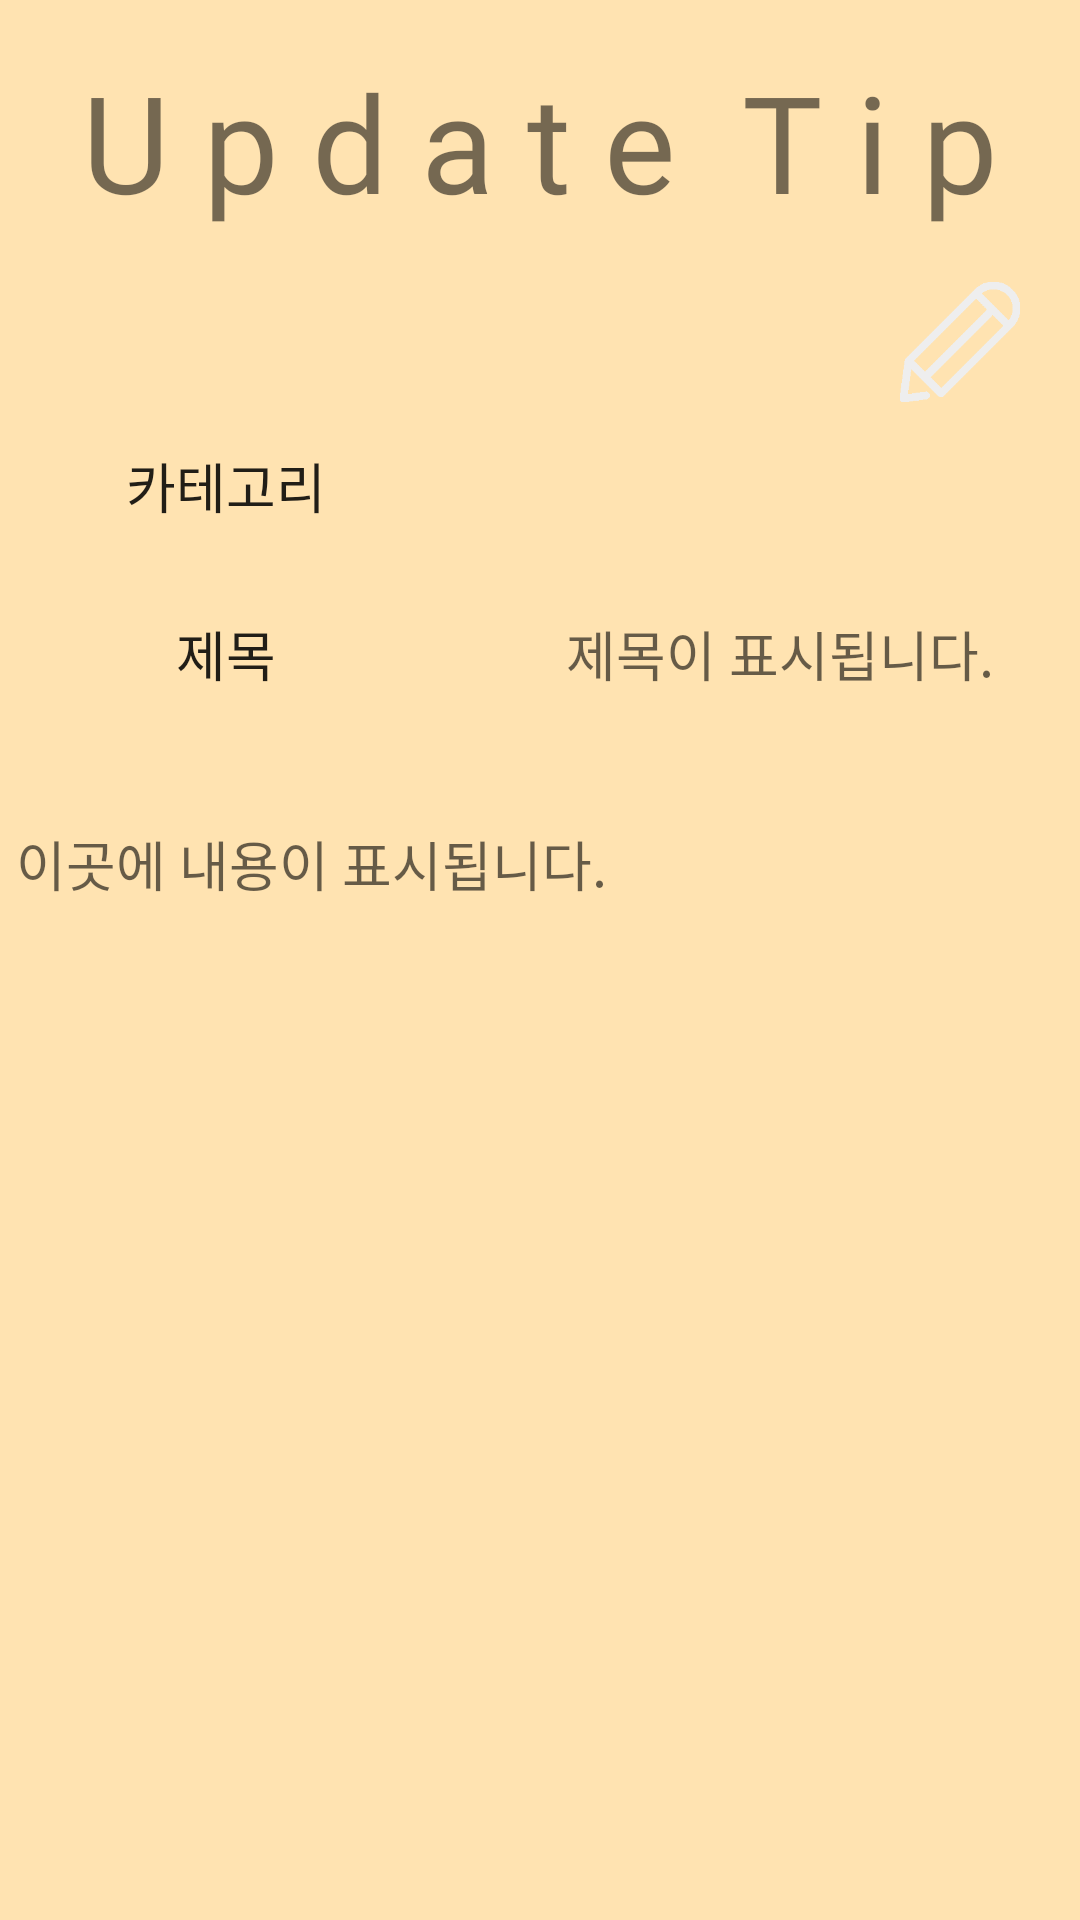

Icon bounding boxes for this 1080 × 1920 phone screenshot, format (x1, y1, x2, y2):
pencilwhite: (900, 282, 1020, 402)
